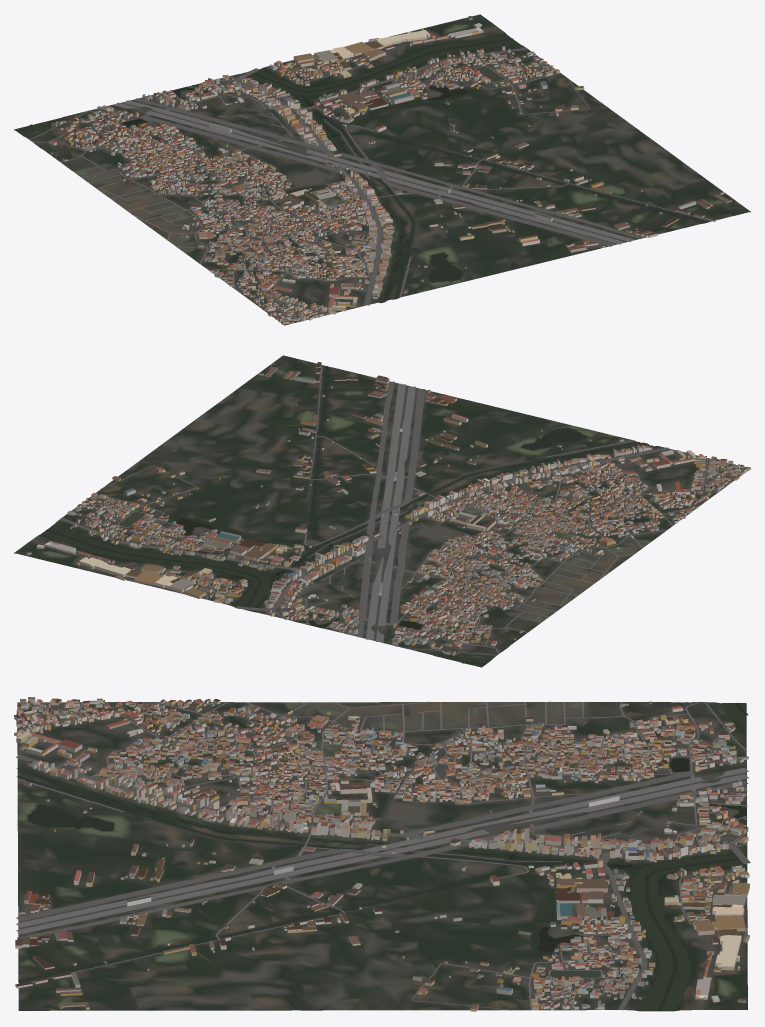
3 views of the same model, one above another, from view 1: azimuth 30°, elevation 25°; view 2: azimuth 150°, elevation 25°; view 3: azimuth 270°, elevation 25° (orthographic). The views are drawn at different scales.
Parts seen in each view (by area): view 1: ground, buildings, roads, water; view 2: ground, buildings, roads, water; view 3: ground, buildings, roads, water.
Boxes of the visible parts, x1,y1,x2,y2 form: ground: (14, 14, 750, 325); buildings: (48, 16, 731, 324); roads: (29, 41, 711, 323); water: (15, 24, 707, 302); ground: (14, 355, 750, 667); buildings: (25, 362, 750, 655); roads: (60, 365, 740, 655); water: (39, 366, 652, 666); ground: (17, 702, 747, 1011); buildings: (14, 697, 749, 1011); roads: (15, 701, 750, 1010); water: (17, 702, 748, 1011).
Bounding box in the file's own units: 1412 × 30.75 × 1417.
